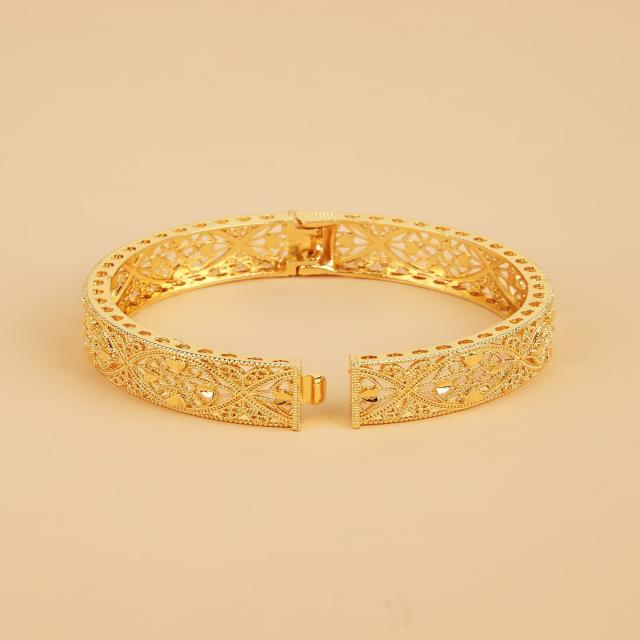bracelet: (41, 149, 640, 484)
